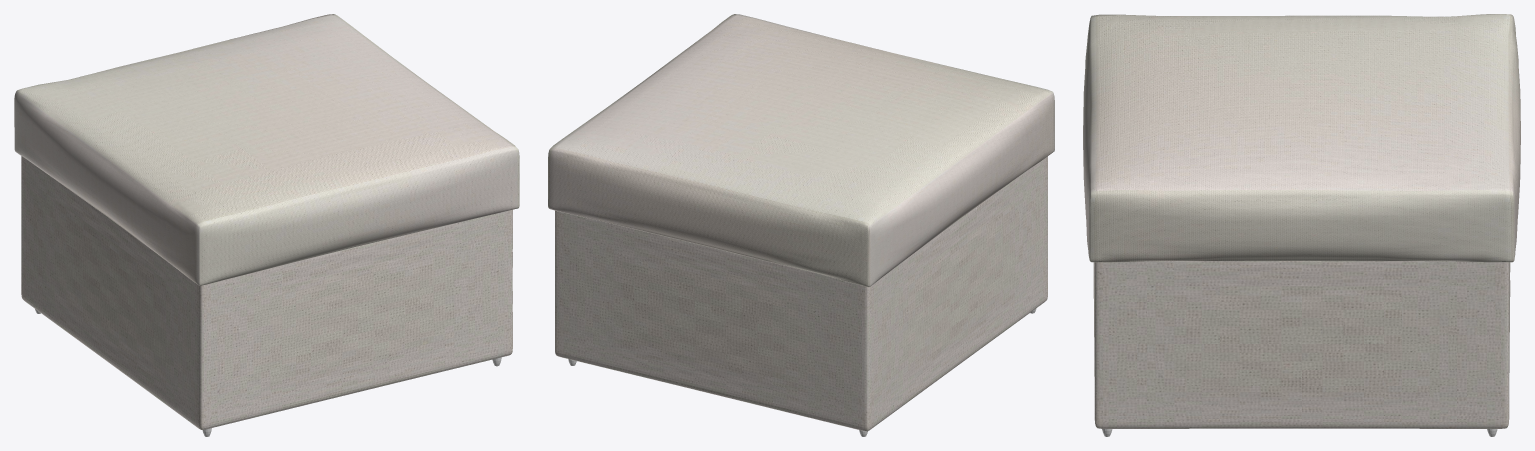
The picture shows the model from 3 angles, left to right: view 1: azimuth 30°, elevation 25°; view 2: azimuth 150°, elevation 25°; view 3: azimuth 270°, elevation 25°; orthographic projection. The views are drawn at different scales.
Parts seen in each view (by area): view 1: asiento, base; view 2: asiento, base; view 3: asiento, base.
Boxes of the visible parts, bbox=[...] form: asiento: bbox=[14, 14, 519, 285]; base: bbox=[21, 156, 512, 429]; asiento: bbox=[548, 14, 1054, 287]; base: bbox=[555, 156, 1047, 431]; asiento: bbox=[1083, 14, 1520, 262]; base: bbox=[1093, 261, 1510, 428].
Size of the model in its own units: 4.97 by 3.31 by 4.97.
Materials: 3 (2 with a texture image).
